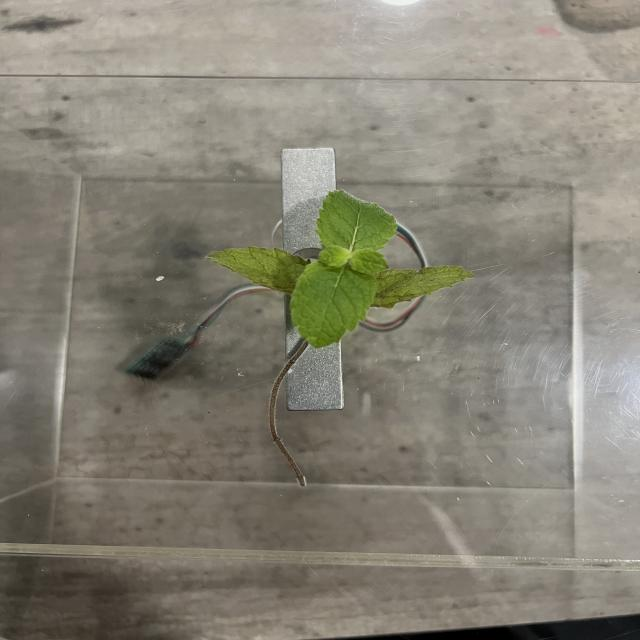mint: (208, 189, 467, 488)
